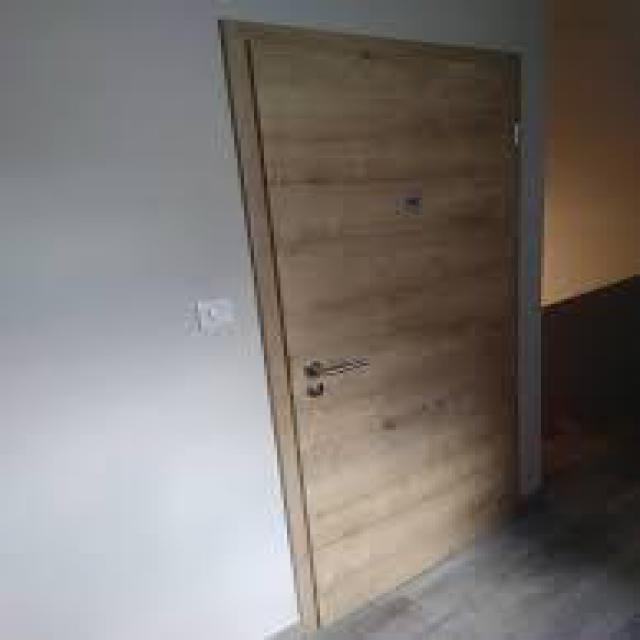Door: (222, 19, 527, 630)
